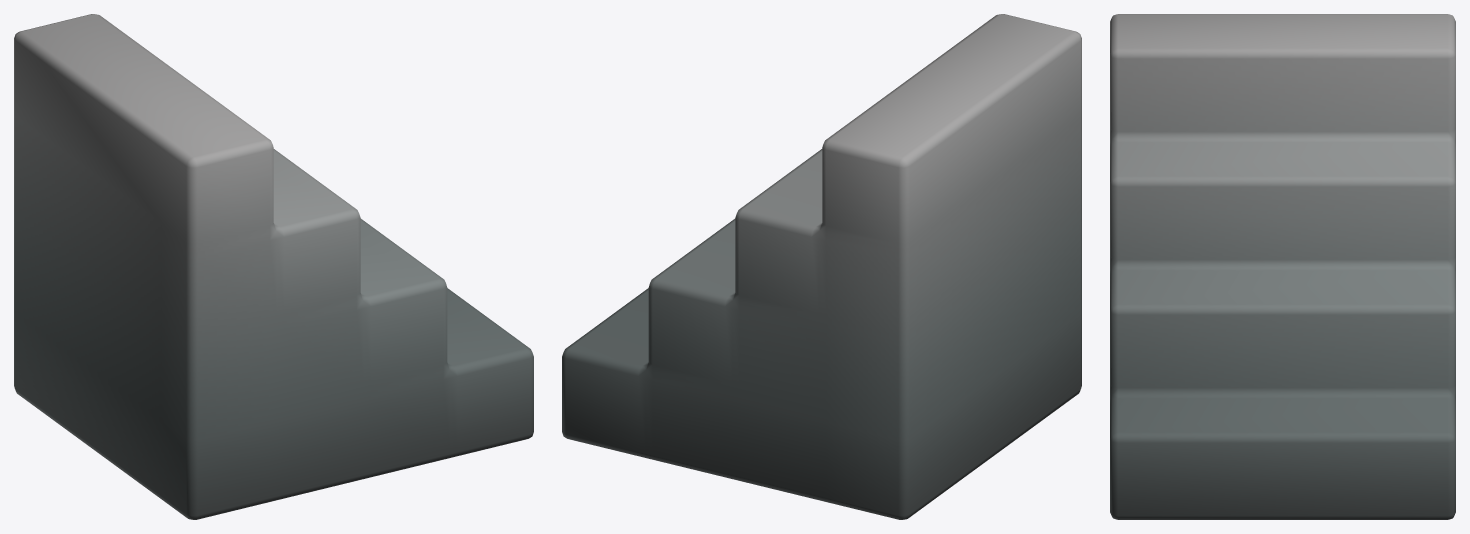
Rendered from Cube_Stairs.fbx.
3 views of the same model, side by side, from view 1: azimuth 30°, elevation 25°; view 2: azimuth 150°, elevation 25°; view 3: azimuth 270°, elevation 25° (orthographic). The views are drawn at different scales.
Visible parts, largest first — view 1: Cube_Stairs; view 2: Cube_Stairs; view 3: Cube_Stairs.
Part boxes in pixels (<box>): Cube_Stairs: <box>14,14,533,519</box>; Cube_Stairs: <box>562,14,1081,519</box>; Cube_Stairs: <box>1110,14,1455,519</box>.
Bounding box in the file's own units: 1.93 × 1.93 × 1.73.
